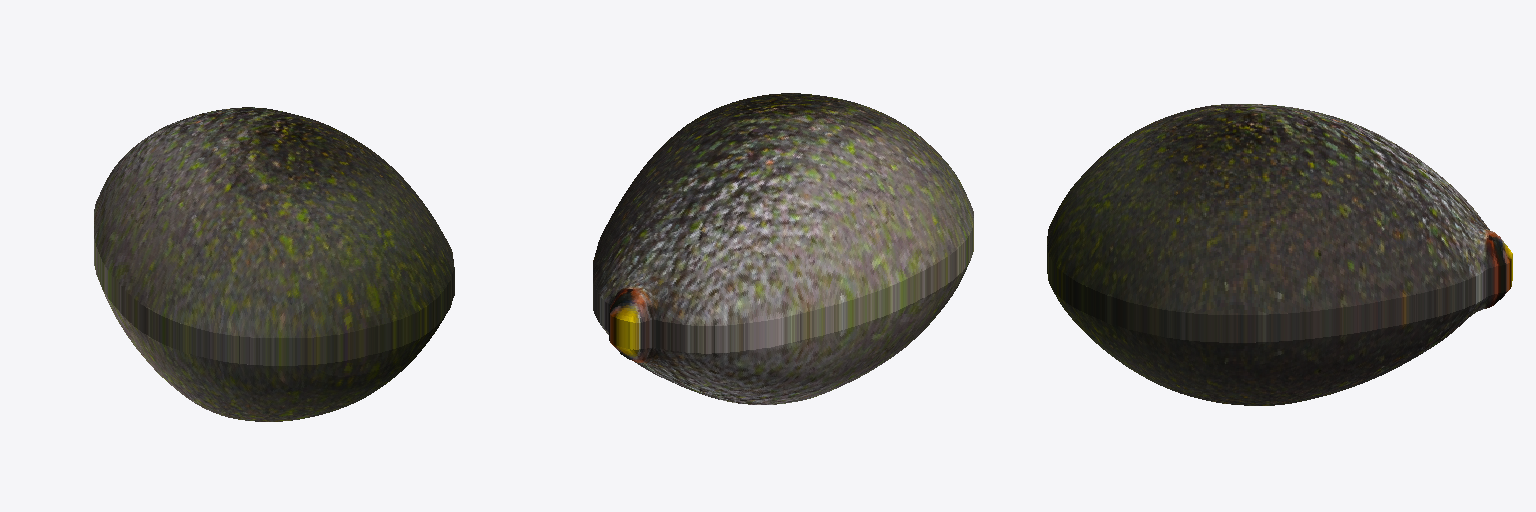
The picture shows the model from 3 angles: view 1: azimuth 30°, elevation 25°; view 2: azimuth 150°, elevation 25°; view 3: azimuth 270°, elevation 25°; orthographic projection.
Visible parts, largest first — view 1: Grid; view 2: Grid; view 3: Grid.
Boxes of the visible parts, <box> form: Grid: <box>94,107,454,421</box>; Grid: <box>593,93,973,404</box>; Grid: <box>1047,104,1512,405</box>.
Bounding box in the file's own units: 1.38 × 1.2 × 1.85.
Materials: 1 (1 with a texture image).